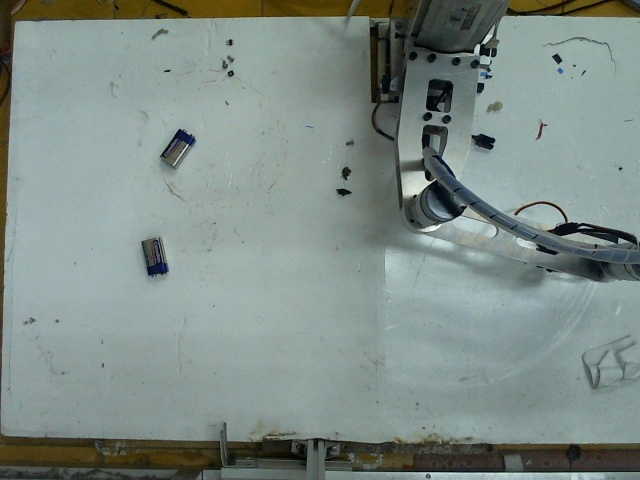battery: (135, 235, 172, 276), (159, 120, 190, 166)
